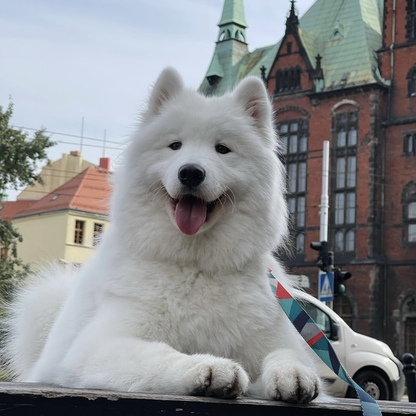samoyed: (1, 59, 339, 416)
